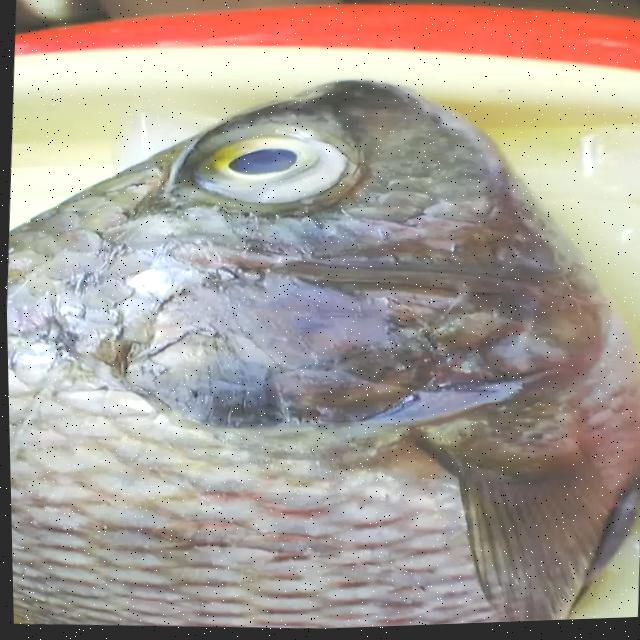Fresh: (6, 312, 584, 640), (164, 125, 361, 249)
